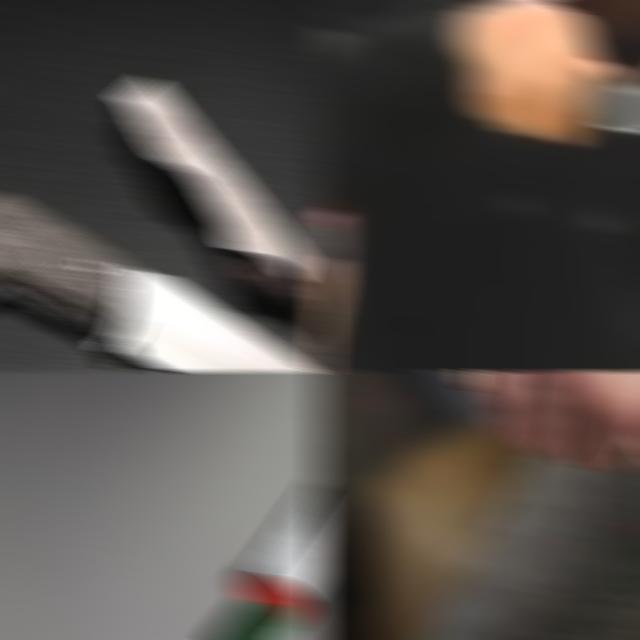Knife: (0, 192, 317, 372), (213, 487, 327, 640), (582, 68, 640, 140)
Knife_Handle: (446, 0, 640, 141), (453, 370, 640, 483)
